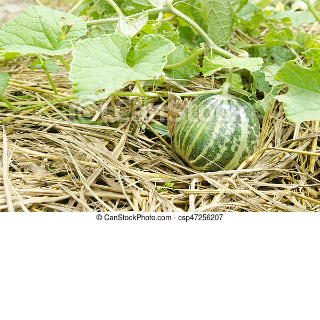dua_hau: (171, 88, 261, 175)
